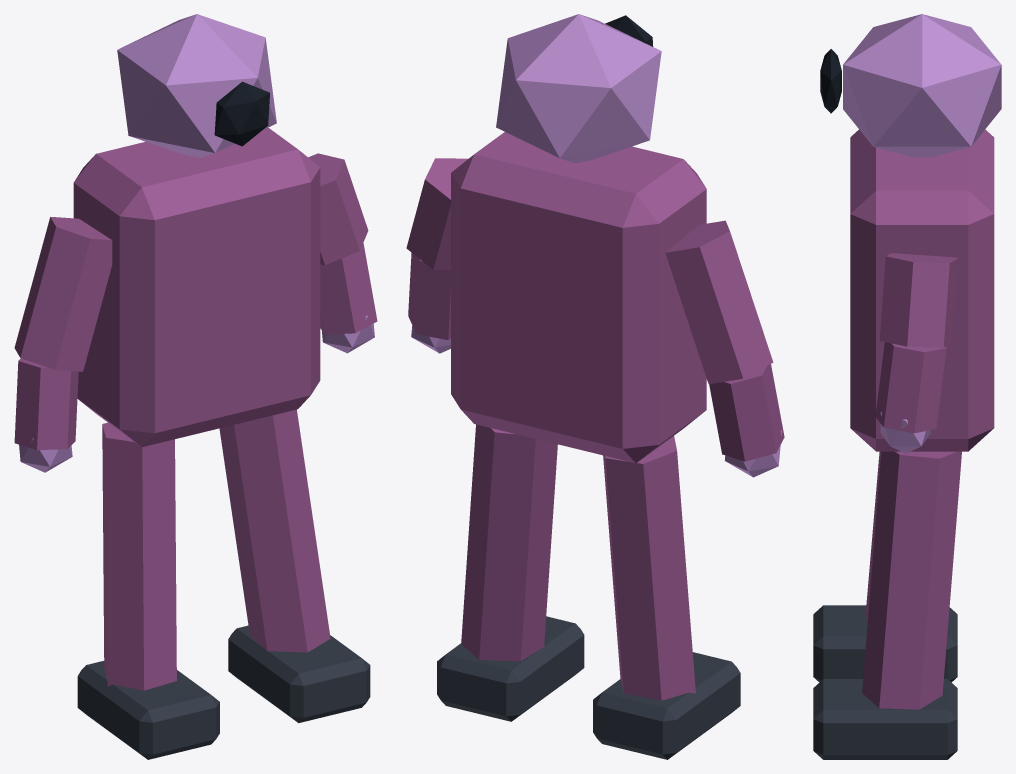
The model's file is npcs_011_seed11.glb.
3 renders of one model, left to right at view 1: azimuth 30°, elevation 25°; view 2: azimuth 150°, elevation 25°; view 3: azimuth 270°, elevation 25°, orthographic. The views are drawn at different scales.
Visible parts, largest first — view 1: npcs_011_seed11; view 2: npcs_011_seed11; view 3: npcs_011_seed11.
Part boxes in pixels (x1,y1,x2,y2): npcs_011_seed11: (14,14,377,759); npcs_011_seed11: (406,14,784,759); npcs_011_seed11: (813,14,1001,759).
Bounding box in the file's own units: 1.01 × 1.86 × 0.4608.
